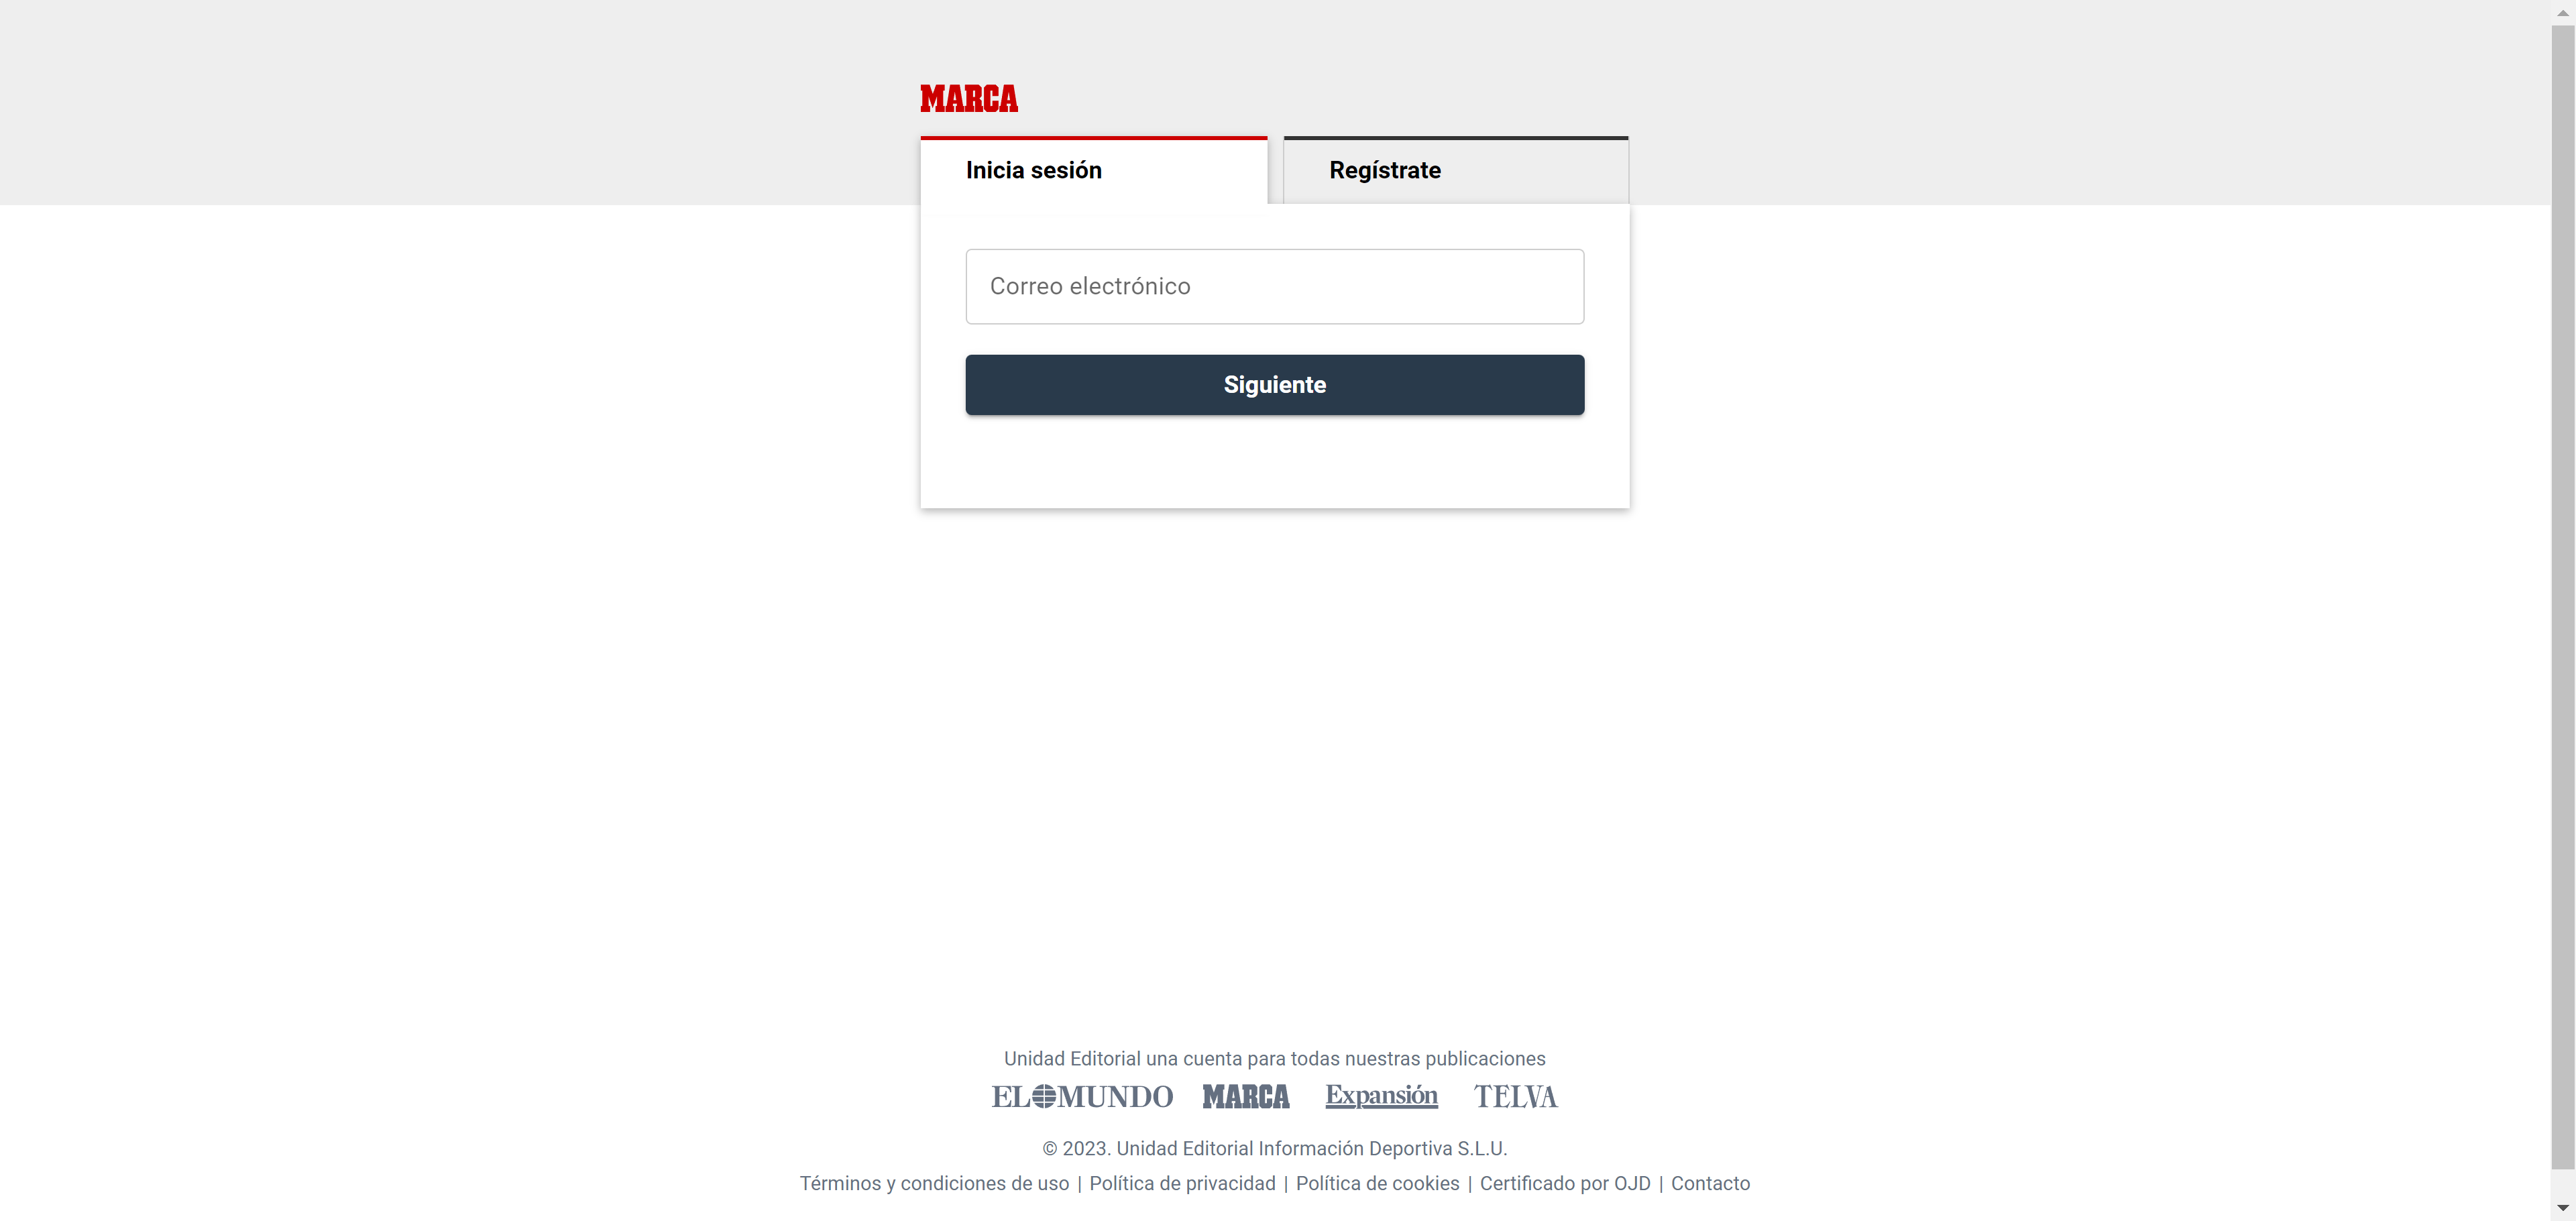login_button: (964, 355, 1585, 416)
login_form: (959, 240, 1592, 426)
